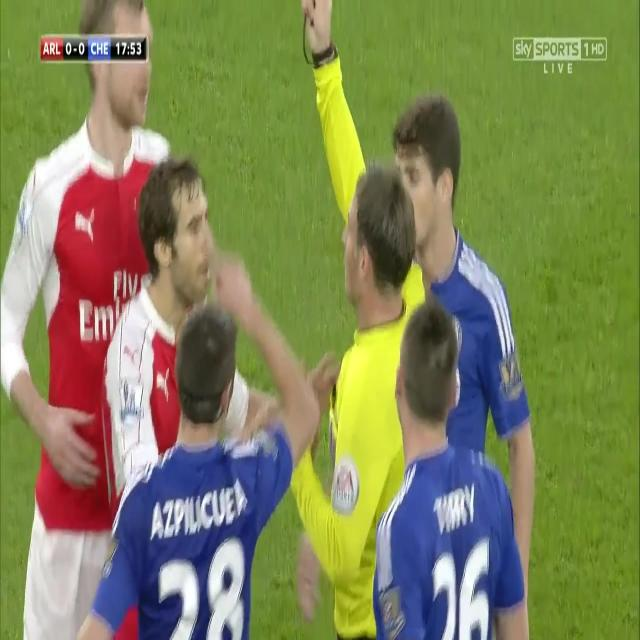Player: (1, 3, 169, 640), (77, 296, 321, 638), (391, 89, 554, 575), (372, 305, 530, 640), (100, 158, 226, 481)
Referee: (273, 3, 430, 640)
